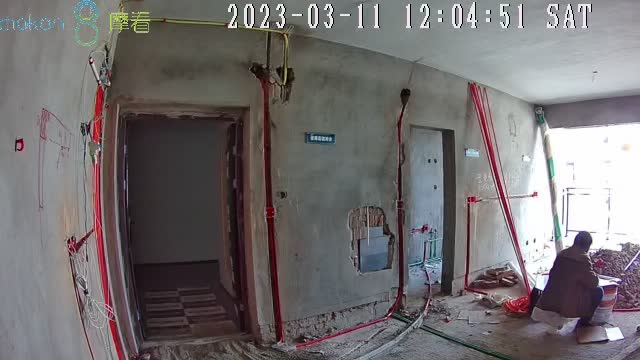people: (531, 231, 604, 332)
window: (545, 122, 640, 239)
